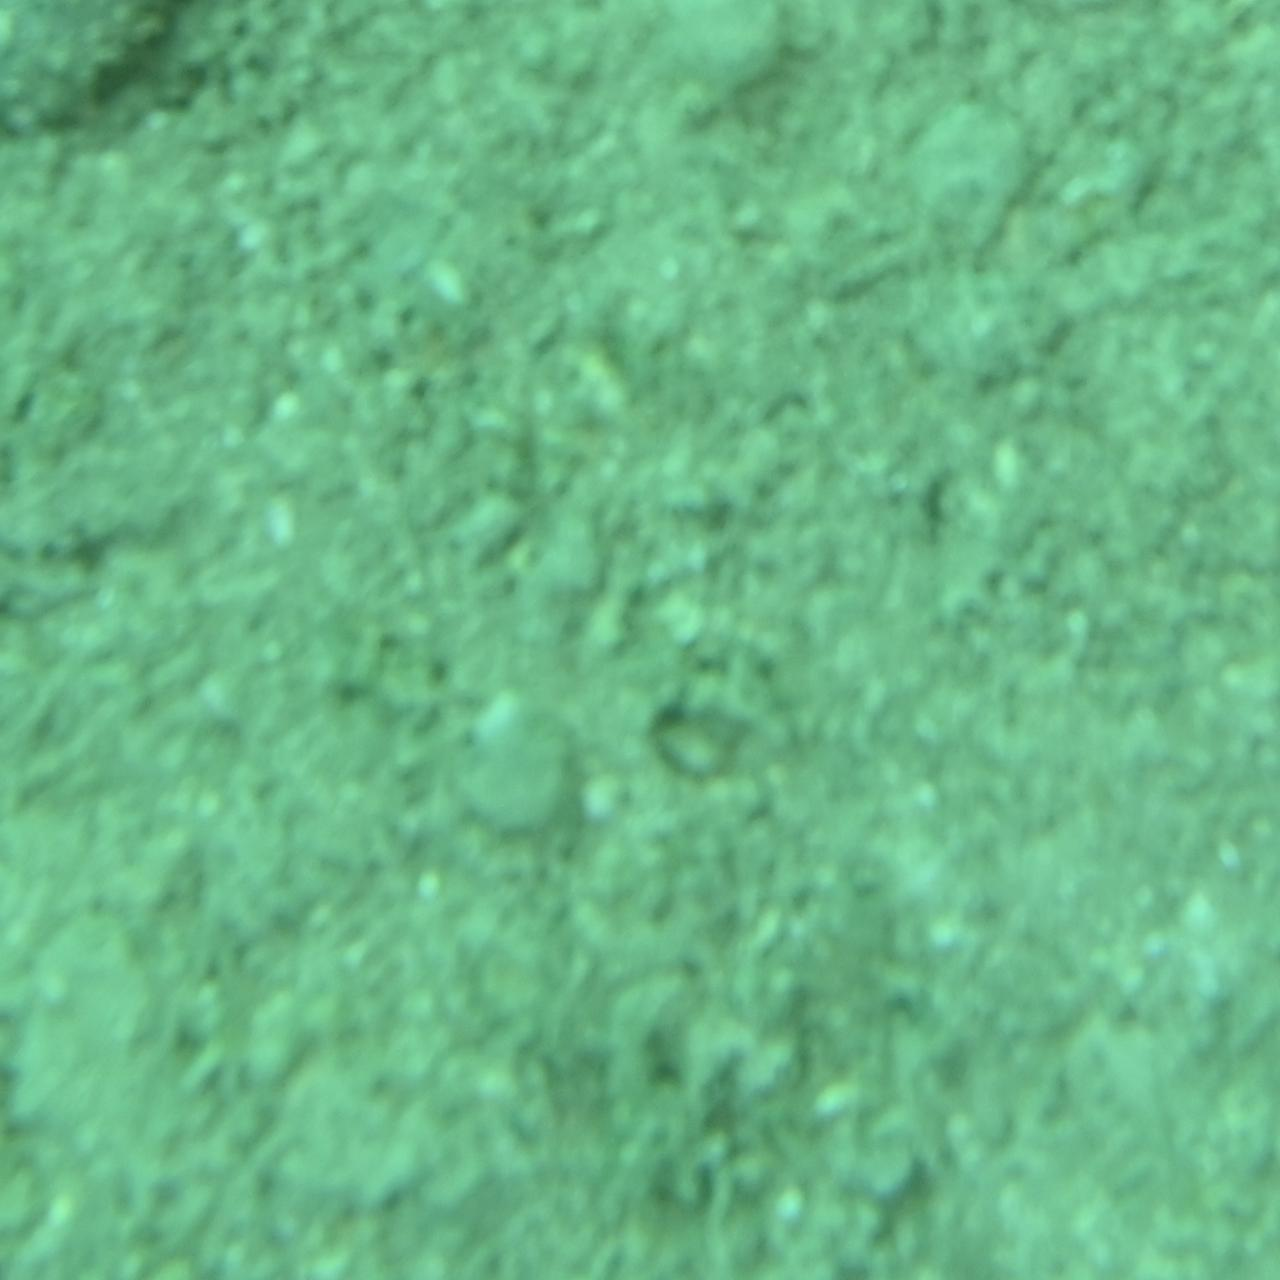Holothuria tubulosa: (633, 638, 647, 642)
